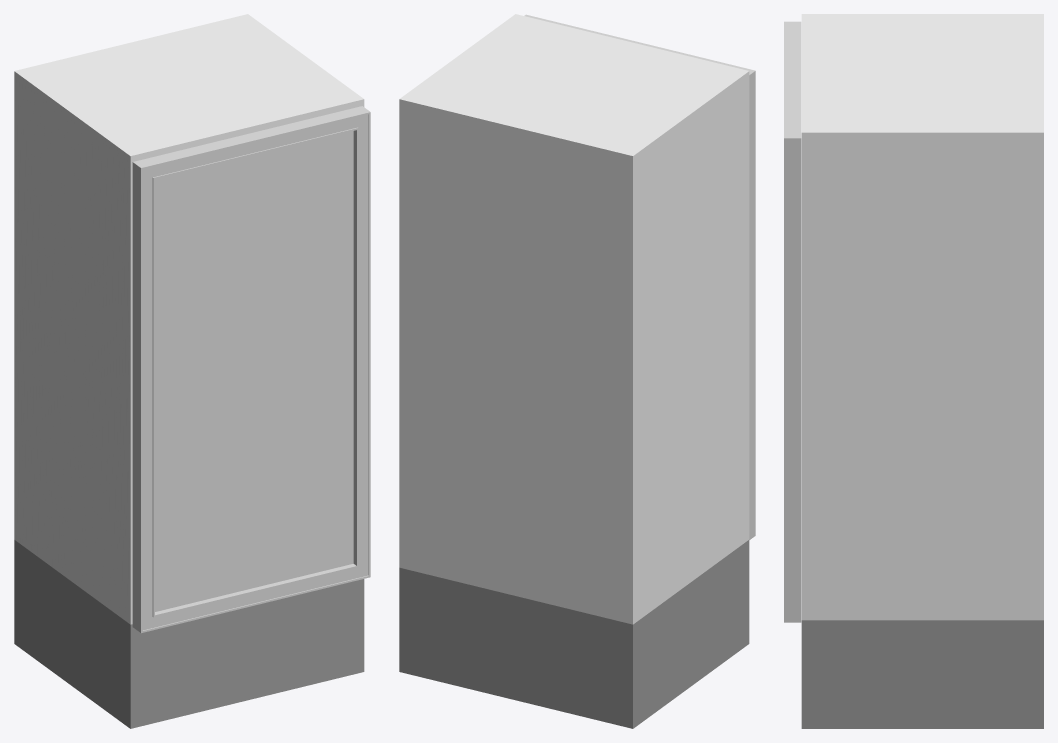
File: freezer3_model.fbx
3 views of the same model, side by side, from view 1: azimuth 30°, elevation 25°; view 2: azimuth 150°, elevation 25°; view 3: azimuth 270°, elevation 25° (orthographic). The views are drawn at different scales.
Visible parts, largest first — view 1: INI, GLASS; view 2: INI, GLASS; view 3: INI, GLASS.
Boxes of the visible parts, bbox=[...] form: INI: bbox=[14, 14, 364, 728]; GLASS: bbox=[132, 106, 370, 633]; INI: bbox=[399, 14, 749, 728]; GLASS: bbox=[524, 14, 755, 539]; INI: bbox=[801, 14, 1043, 728]; GLASS: bbox=[784, 21, 801, 622].
Size of the model in its own units: 6862 by 16063 by 6343.
